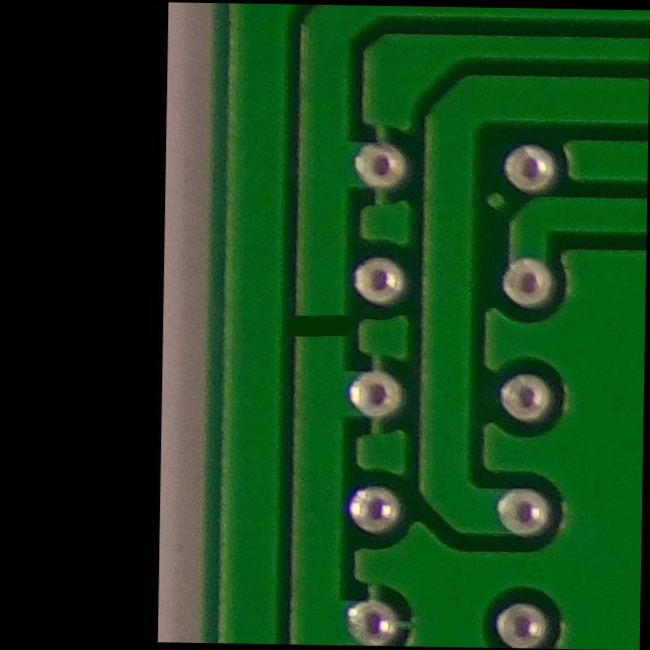open_circuit: (289, 296, 360, 354)
